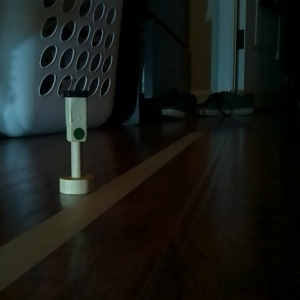traffic light green: (57, 88, 96, 198)
